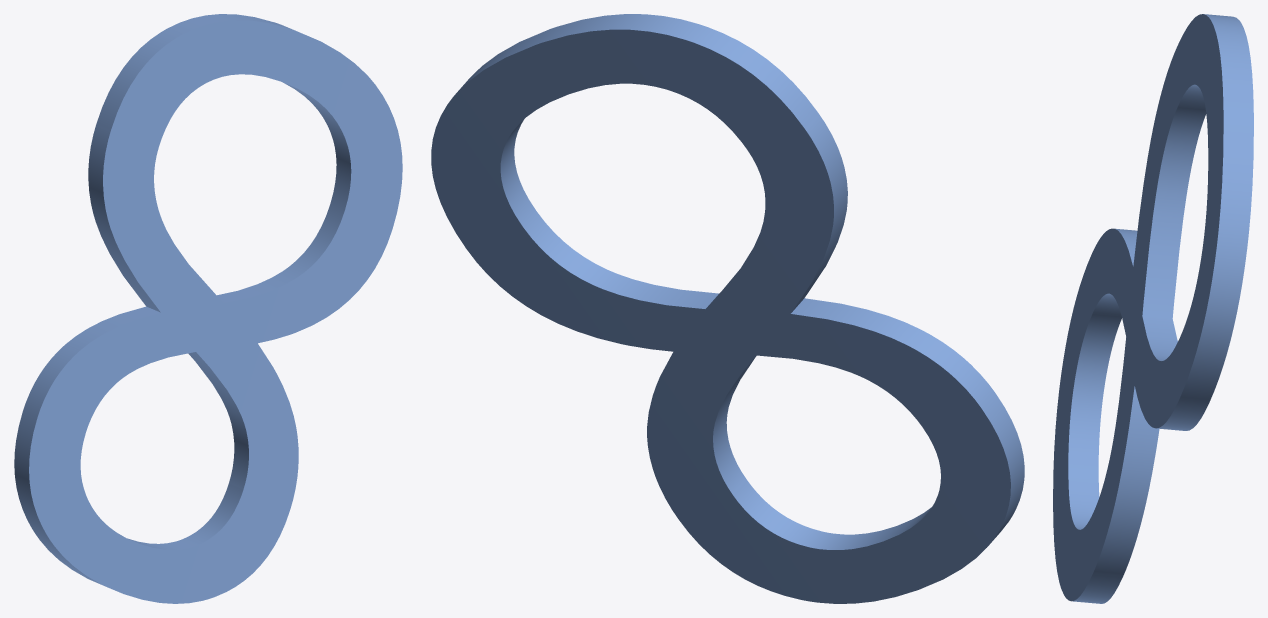
Rendered from New_Number_8.gltf.
3 renders of one model, left to right at view 1: azimuth 30°, elevation 25°; view 2: azimuth 150°, elevation 25°; view 3: azimuth 270°, elevation 25°, orthographic. The views are drawn at different scales.
Visible parts, largest first — view 1: New_Number_8; view 2: New_Number_8; view 3: New_Number_8.
Part boxes in pixels (bbox=[...]): New_Number_8: bbox=[14, 14, 402, 603]; New_Number_8: bbox=[431, 14, 1024, 603]; New_Number_8: bbox=[1053, 14, 1253, 603].
Size of the model in its own units: 0.00477 by 0.00545 by 0.00167.
